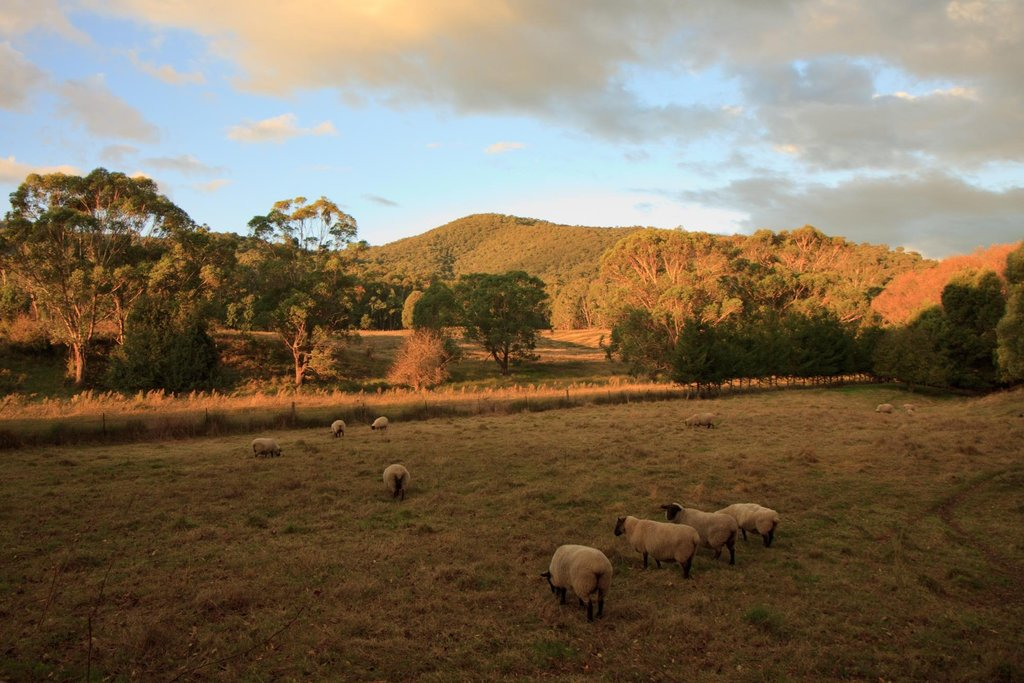sheep: (613, 517, 701, 576), (542, 545, 612, 619), (380, 461, 412, 501), (251, 438, 280, 455), (331, 420, 344, 442), (373, 412, 389, 429)
